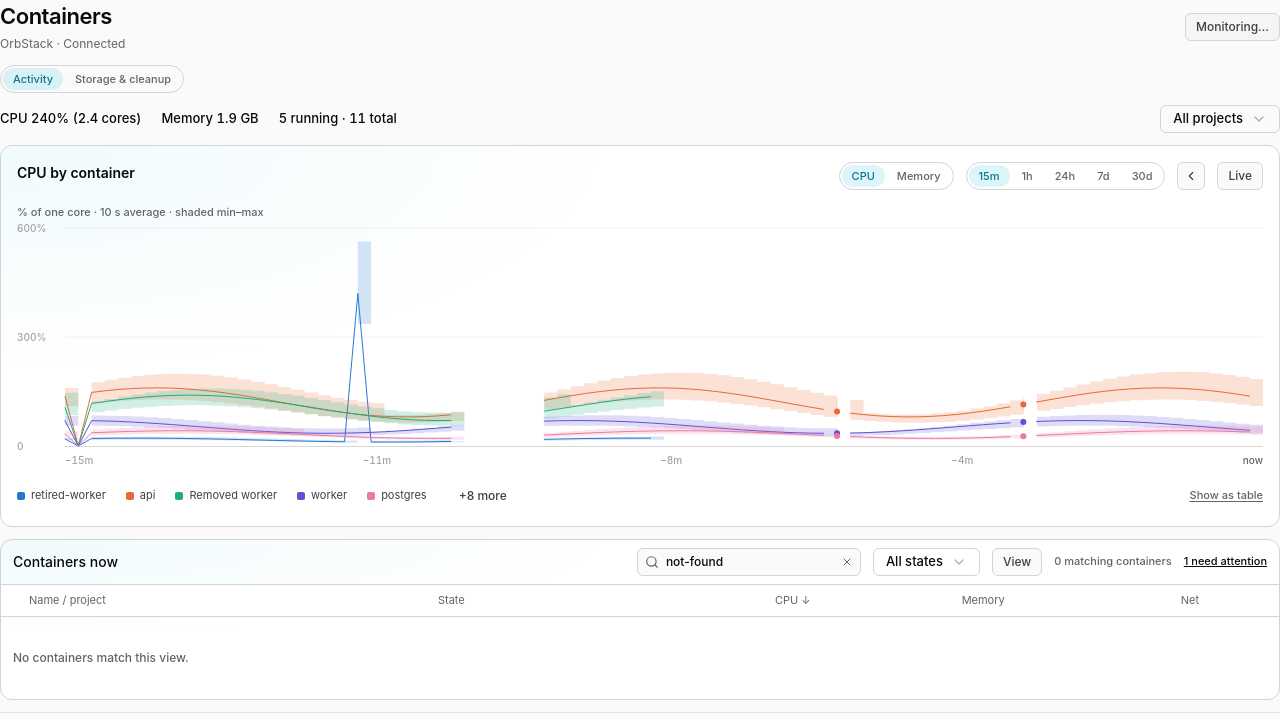
it: expands an affected container's group when clearing hidden attention filters
Step 1. Click the button "1 need attention" → (1225, 562), box x1=1184 y1=553 x2=1267 y2=570
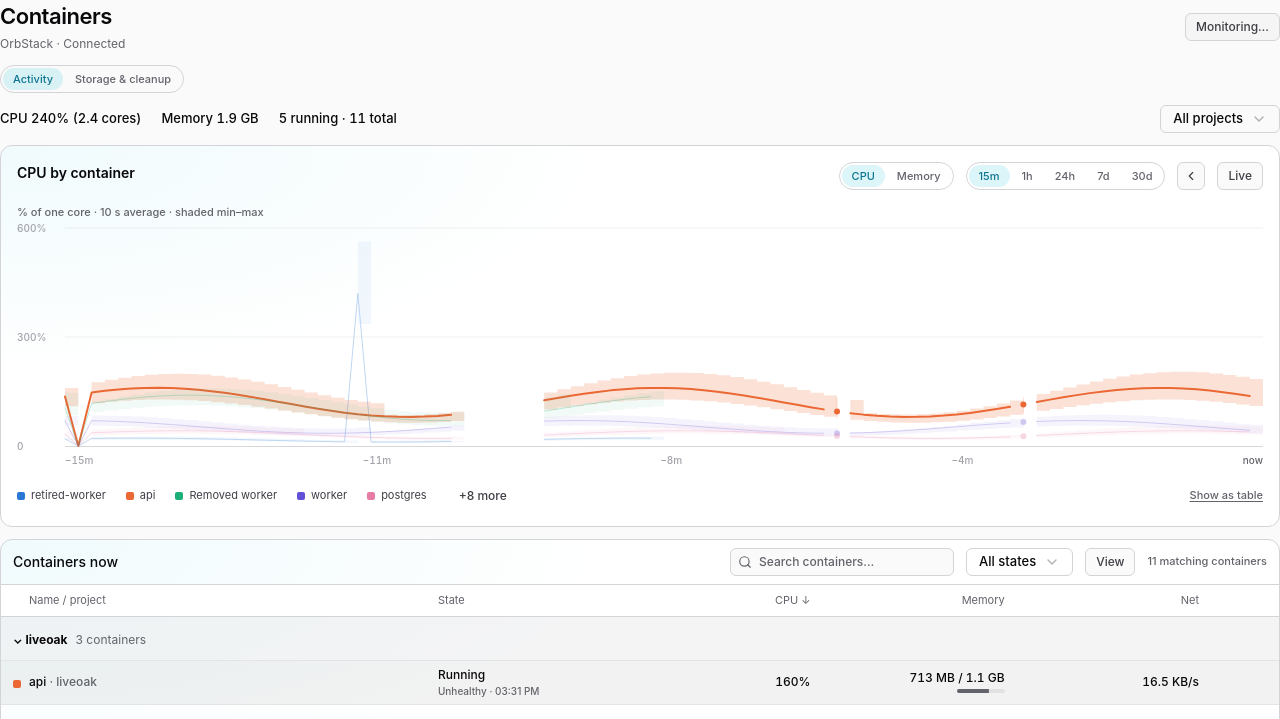
Check: the link "api · liveoak" is shown, box x1=29 y1=674 x2=97 y2=689
